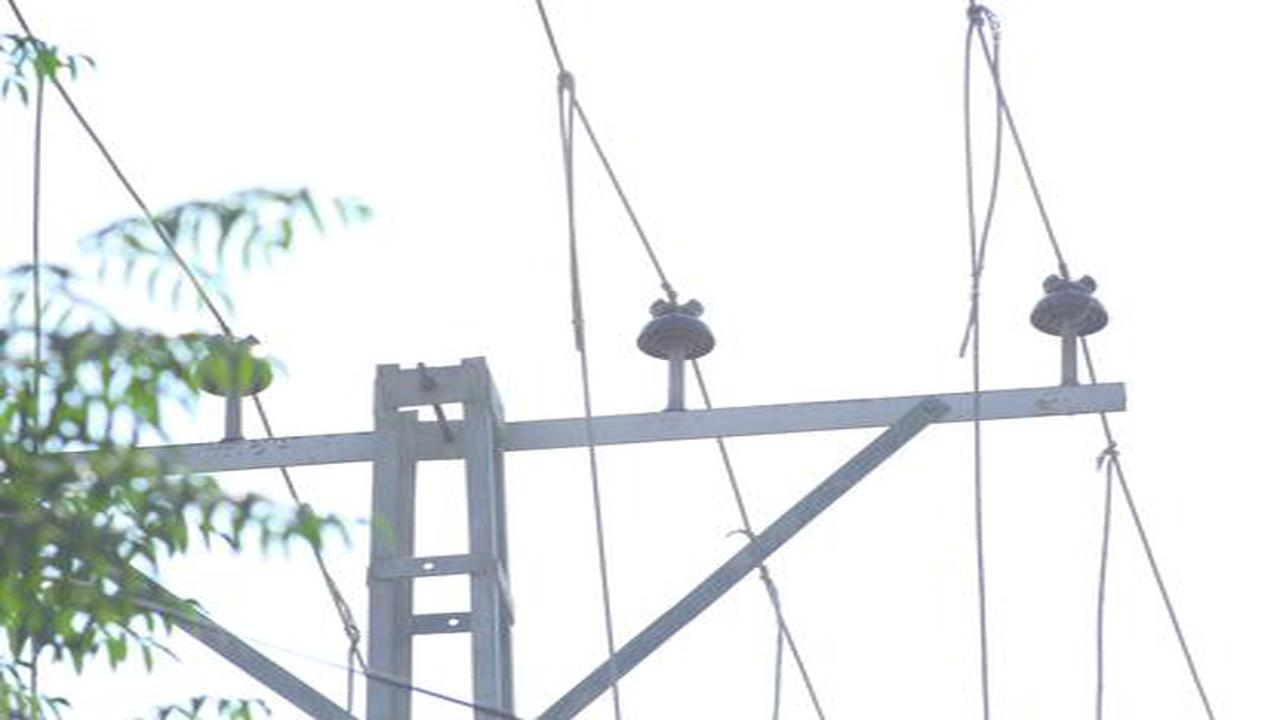insulator_pin: (1025, 272, 1111, 349), (633, 293, 718, 363)
